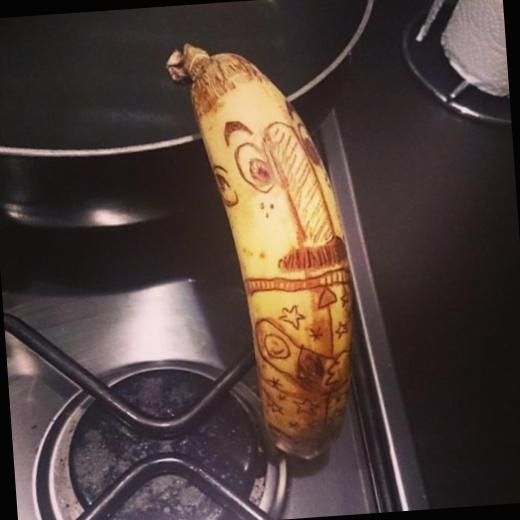Banana: (146, 33, 382, 455)
